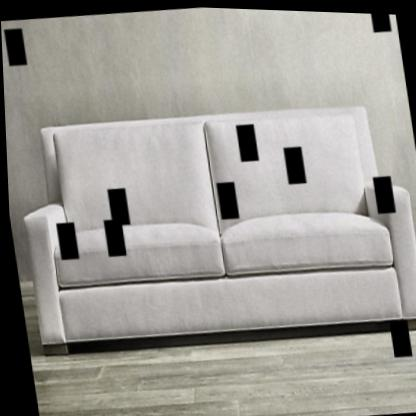Sofa: (11, 88, 416, 356)
